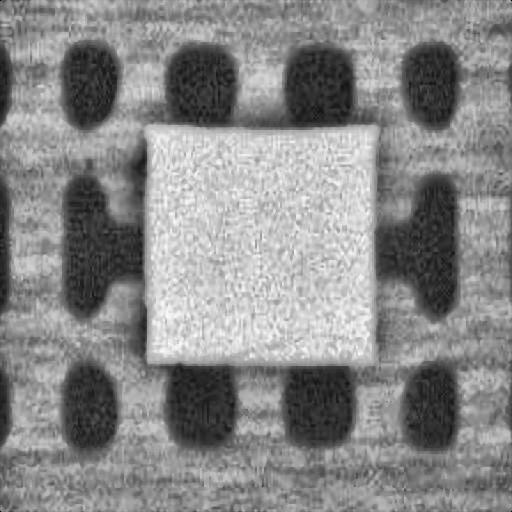DIE_CRACK: (220, 334, 361, 353)
